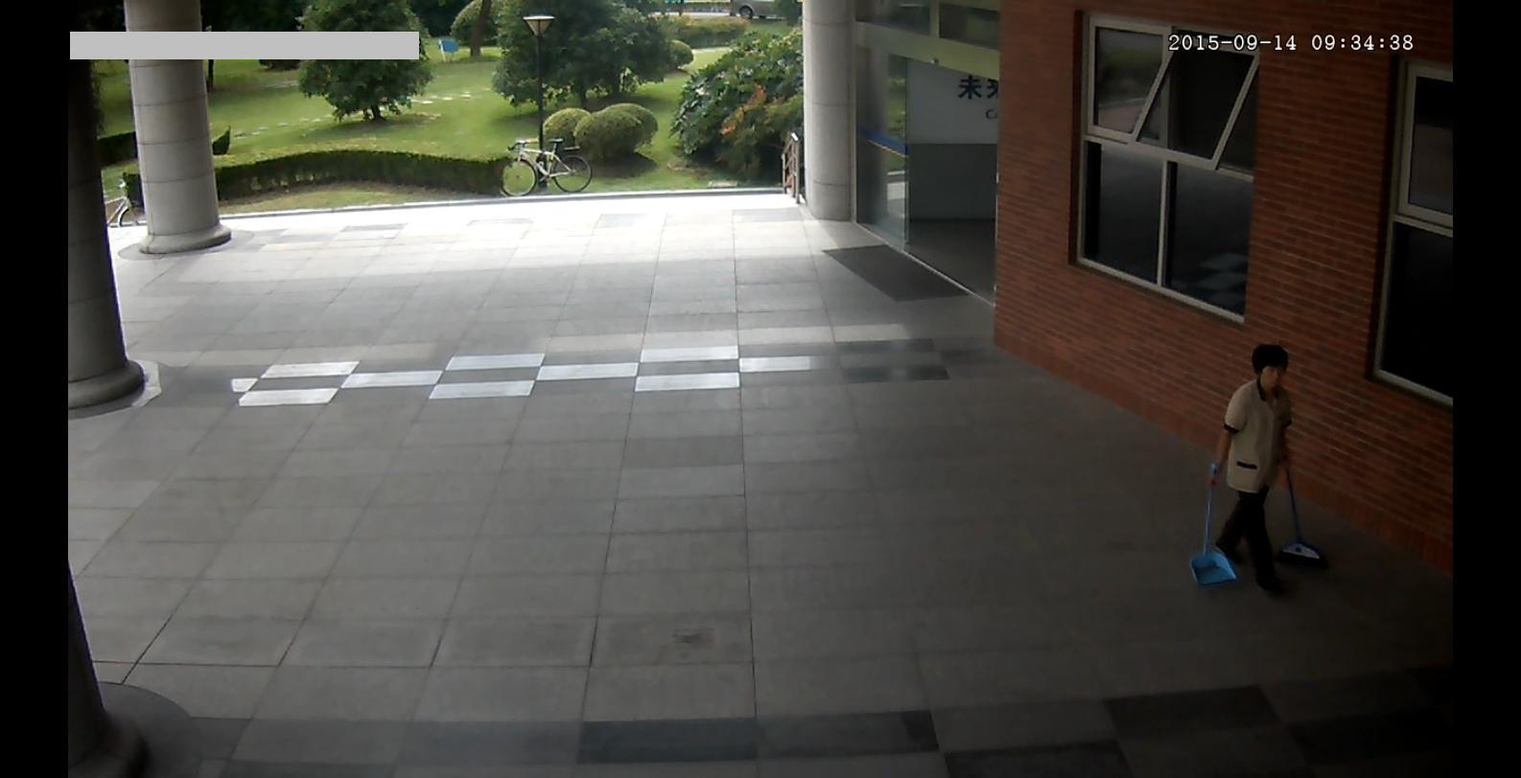person: (1217, 340, 1300, 607)
